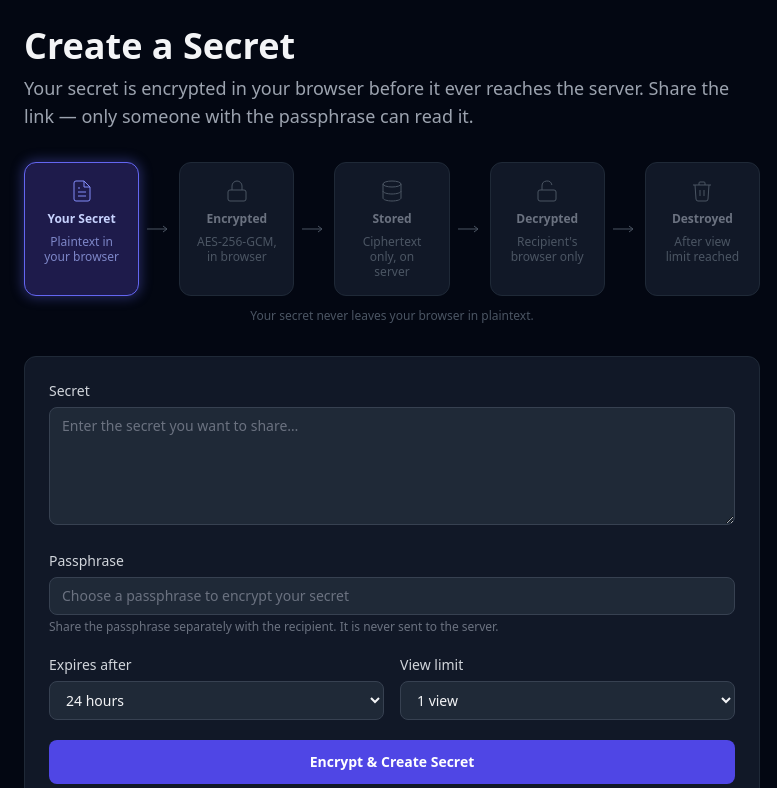
Create — submission flow › shows loading state while encrypting
In the text box labelled "Secret": (392, 466) [49, 407, 735, 525], type "my secret"
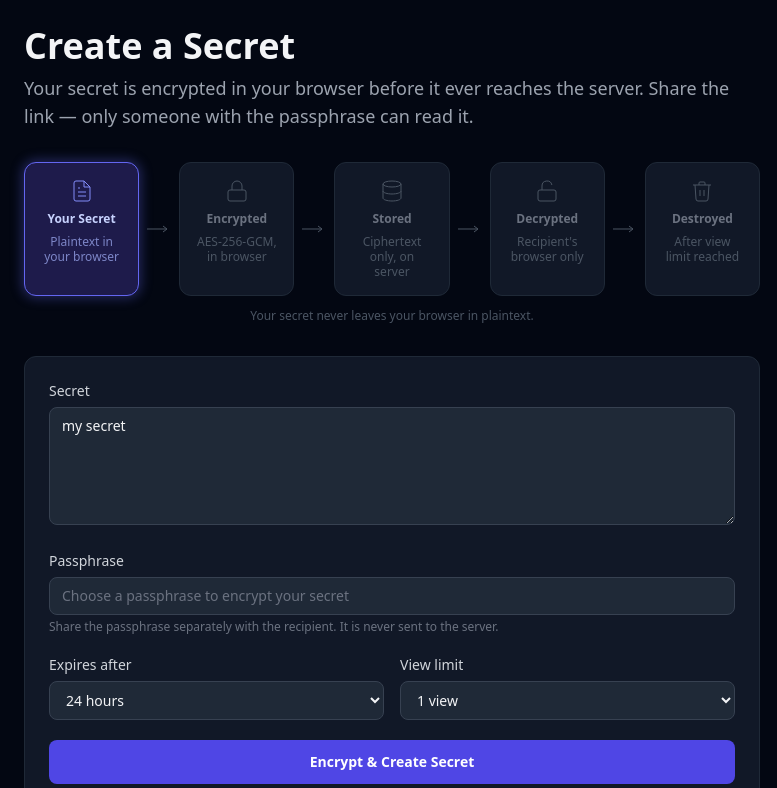
In the password field labelled "Passphrase": (392, 596) [49, 577, 735, 615], type "passphrase"
(page scrolled)
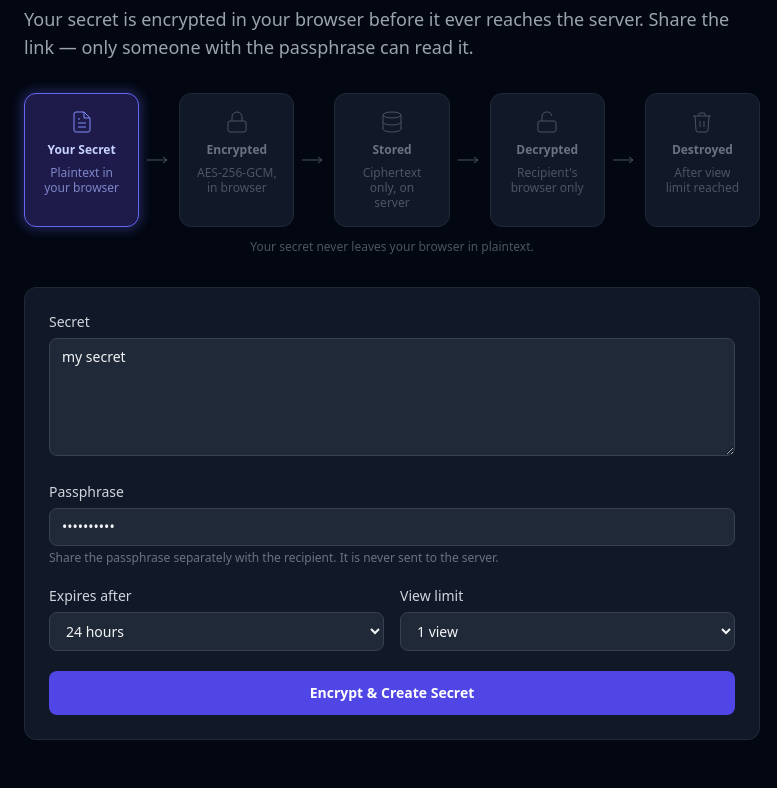
Submit the form named "Encrypt & Create Secret", box [24, 287, 760, 740]
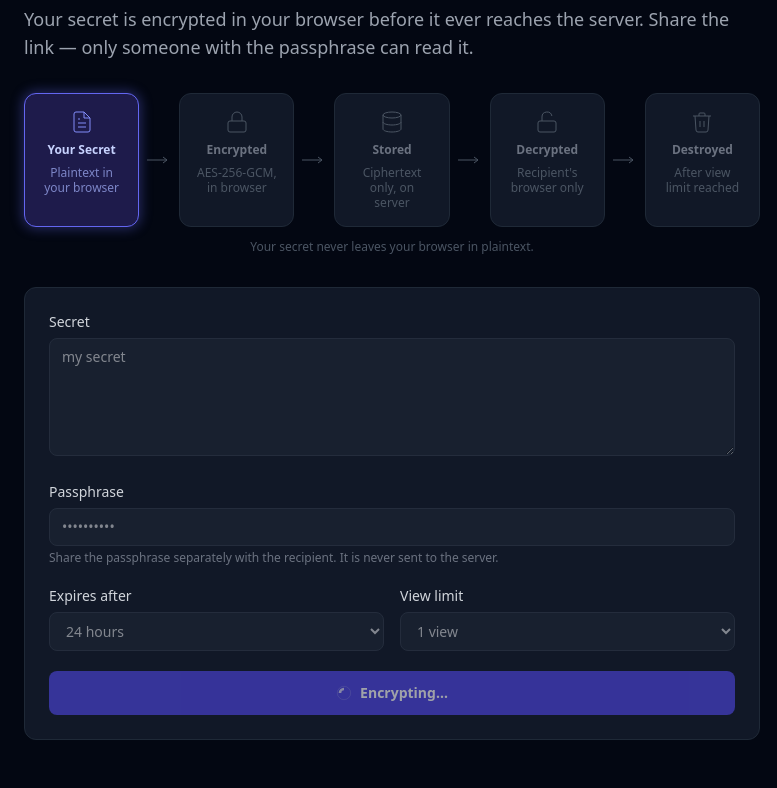
Check: the button "Encrypting…" is shown, box [49, 671, 735, 715]
